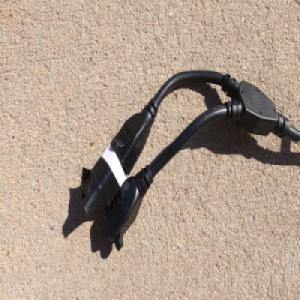Wire: (80, 66, 300, 252)
